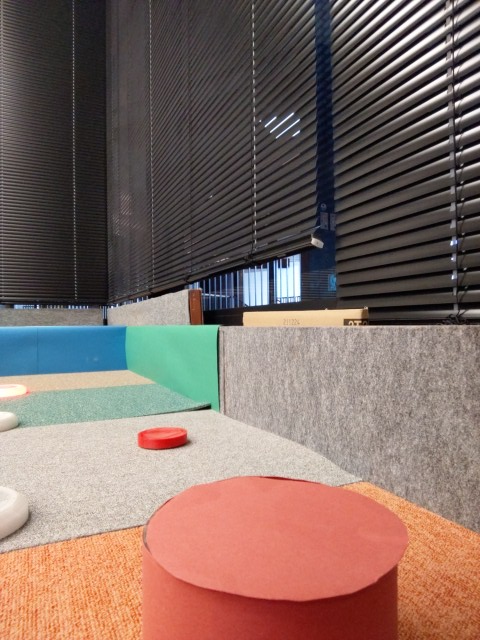o: (1, 482, 31, 543), (1, 406, 18, 435)
r: (1, 377, 30, 399)
